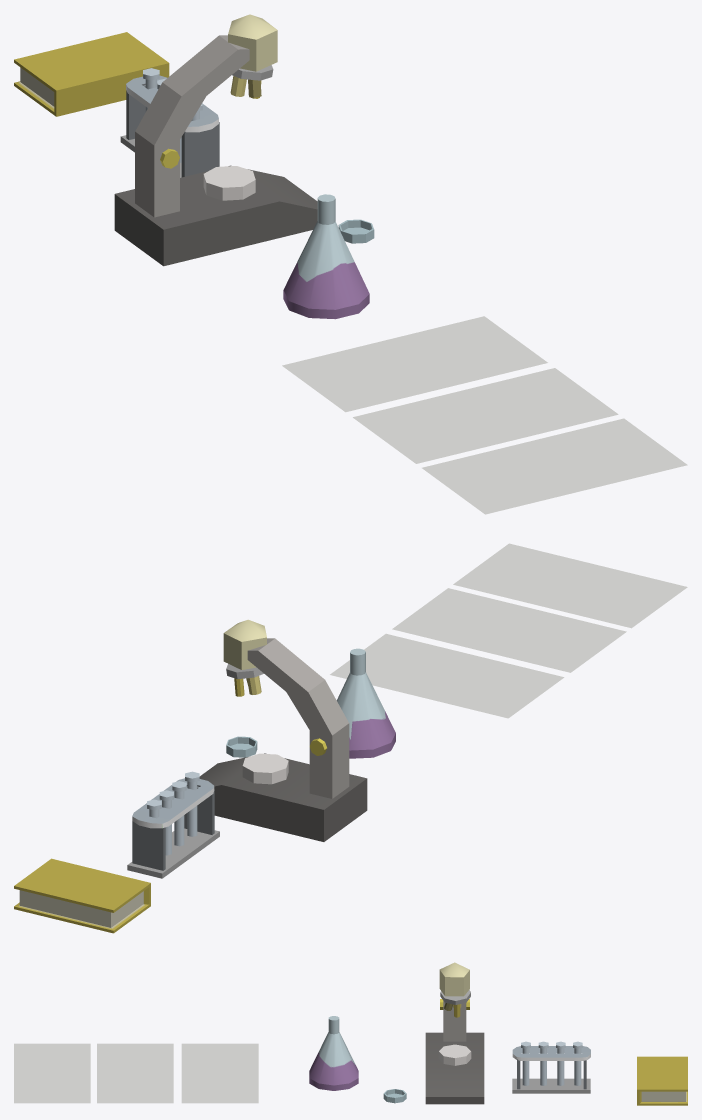
The model's file is Lab Equipment.fbx.
3 views of the same model, one above another, from view 1: azimuth 30°, elevation 25°; view 2: azimuth 150°, elevation 25°; view 3: azimuth 270°, elevation 25° (orthographic). The views are drawn at different scales.
Visible parts, largest first — view 1: papier2, papier3, papier1, Plateau_Microscoop, pCube2, boek3, Erlemeijer, pCube3, Bovenkant, pCylinder6, pCube4; view 2: papier2, papier1, papier3, Plateau_Microscoop, boek3, pCube2, Erlemeijer, pCube3, pCube4, Bovenkant, pCylinder6, Petri_Schaaltje; view 3: papier3, papier1, papier2, Plateau_Microscoop, boek3, Erlemeijer, pCube3, pCube4, Bovenkant, pCube2, pCylinder6, Reageerbuis3 (+5 smaller).
Boxes of the visible parts, bbox=[...] form: papier2: bbox=[422, 418, 687, 514]; papier3: bbox=[282, 316, 547, 412]; papier1: bbox=[353, 368, 618, 463]; Plateau_Microscoop: bbox=[114, 165, 317, 266]; pCube2: bbox=[135, 35, 249, 217]; boek3: bbox=[14, 32, 169, 116]; Erlemeijer: bbox=[283, 194, 369, 319]; pCube3: bbox=[120, 83, 219, 177]; Bovenkant: bbox=[228, 14, 277, 71]; pCylinder6: bbox=[203, 166, 255, 200]; pCube4: bbox=[126, 75, 218, 132]; papier2: bbox=[453, 543, 687, 628]; papier1: bbox=[392, 588, 626, 672]; papier3: bbox=[330, 633, 564, 718]; Plateau_Microscoop: bbox=[199, 753, 367, 841]; boek3: bbox=[14, 858, 150, 933]; pCube2: bbox=[247, 638, 349, 798]; Erlemeijer: bbox=[336, 648, 395, 758]; pCube3: bbox=[127, 785, 219, 878]; pCube4: bbox=[132, 778, 214, 828]; Bovenkant: bbox=[223, 619, 266, 669]; pCylinder6: bbox=[242, 753, 288, 784]; Petri_Schaaltje: bbox=[226, 736, 257, 757]; papier3: bbox=[181, 1043, 258, 1103]; papier1: bbox=[97, 1043, 173, 1103]; papier2: bbox=[14, 1043, 90, 1103]; Plateau_Microscoop: bbox=[425, 1032, 484, 1104]; boek3: bbox=[637, 1056, 687, 1105]; Erlemeijer: bbox=[309, 1016, 358, 1090]; pCube3: bbox=[512, 1059, 590, 1093]; pCube4: bbox=[512, 1046, 590, 1060]; Bovenkant: bbox=[439, 962, 469, 996]; pCube2: bbox=[443, 1001, 466, 1041]; pCylinder6: bbox=[438, 1044, 471, 1065]; Reageerbuis3: bbox=[556, 1041, 565, 1085].
Bounding box in the file's own units: 36.09 × 35.09 × 172.
